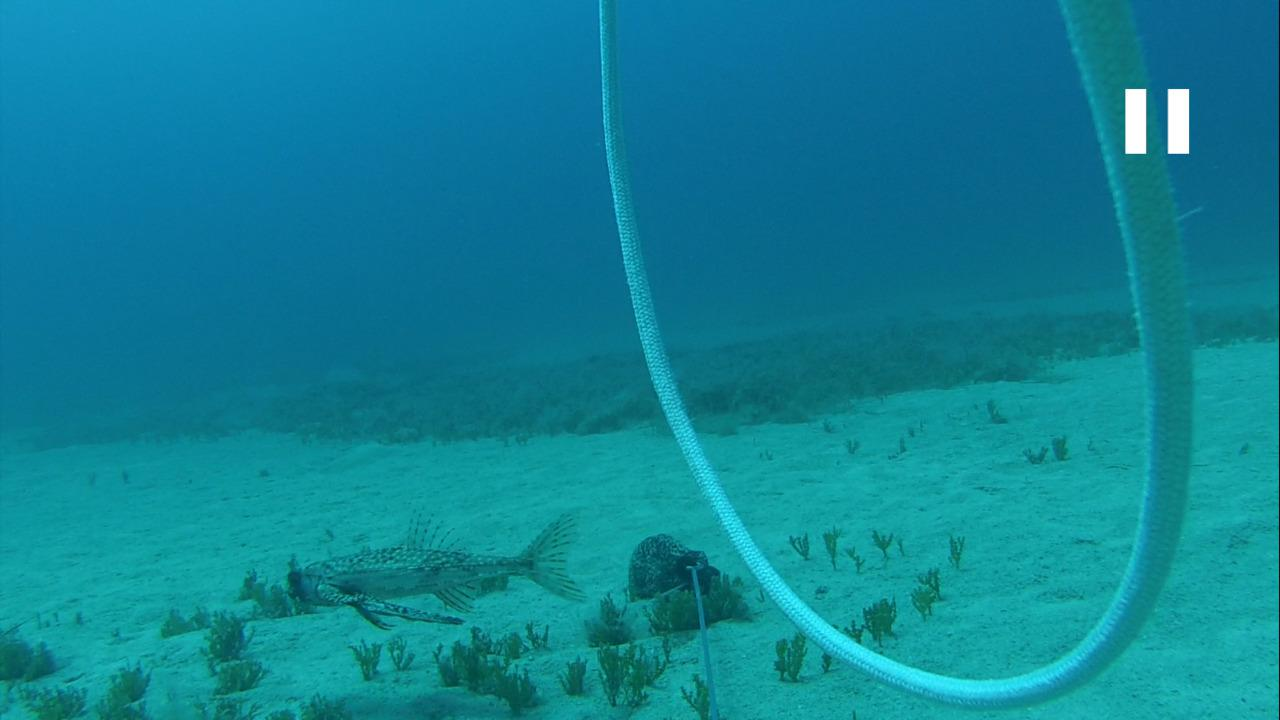dactylopterus: (281, 504, 584, 634)
